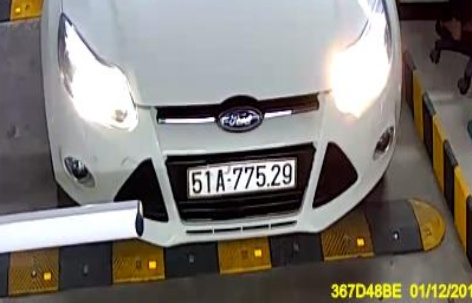plate: (183, 159, 297, 198)
